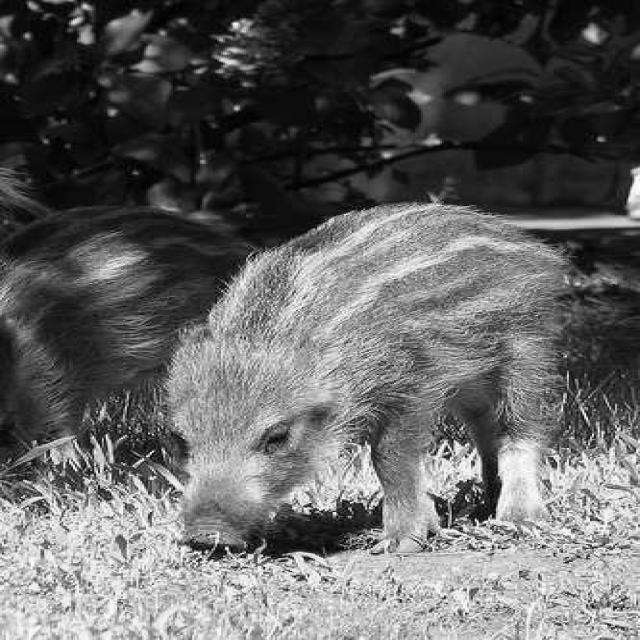boar: (165, 204, 559, 548), (2, 207, 246, 452)
